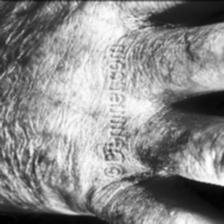Toxin: (114, 170, 168, 195)
